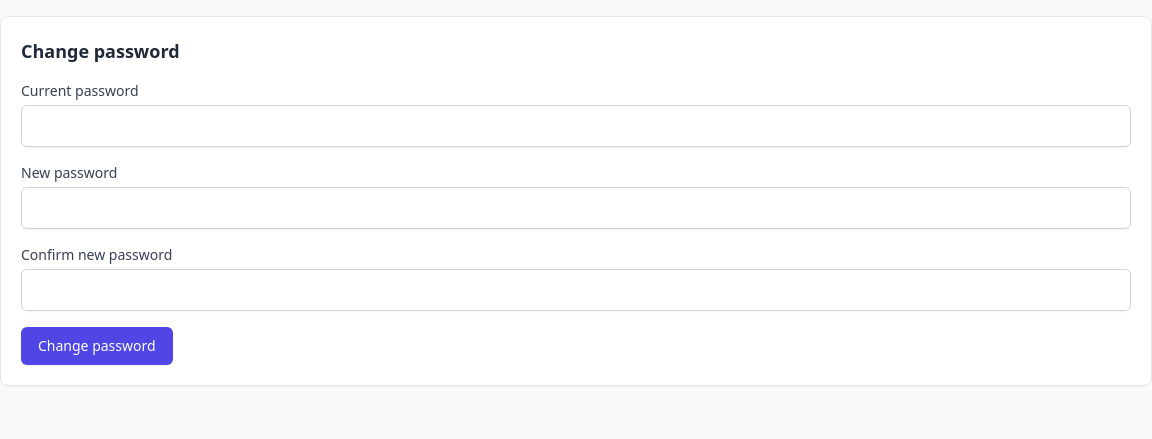
it: ChangePasswordForm › saves the new password, confirms it and clears the fields
In the password field labelled "Current password": (576, 126) [21,105,1131,147], type "secret1234"
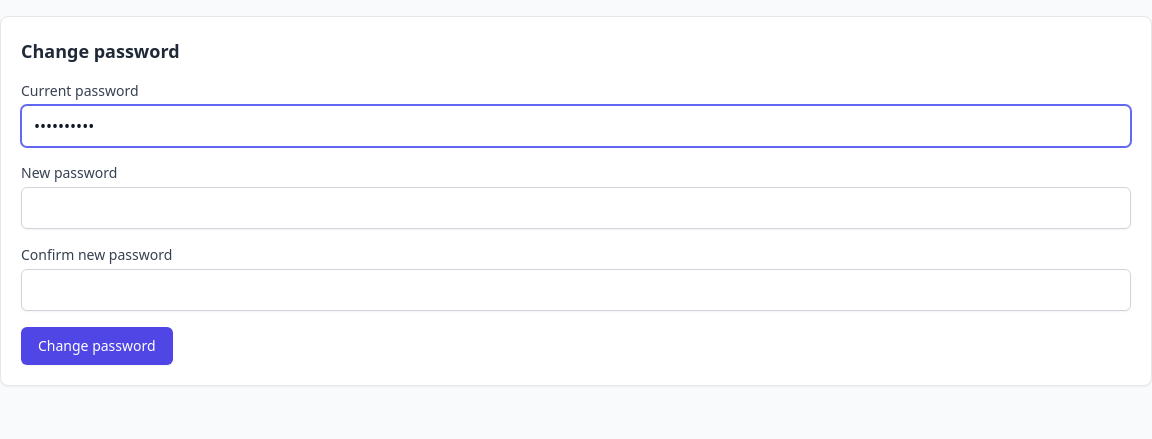
In the password field labelled "New password": (576, 208) [21,187,1131,229], type "newsecret5678"
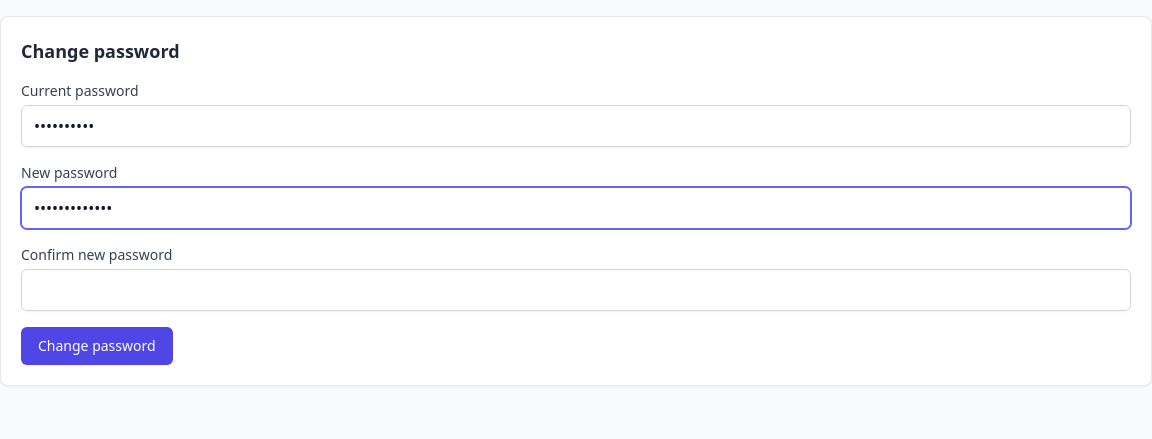
In the password field labelled "Confirm new password": (576, 290) [21,269,1131,311], type "newsecret5678"
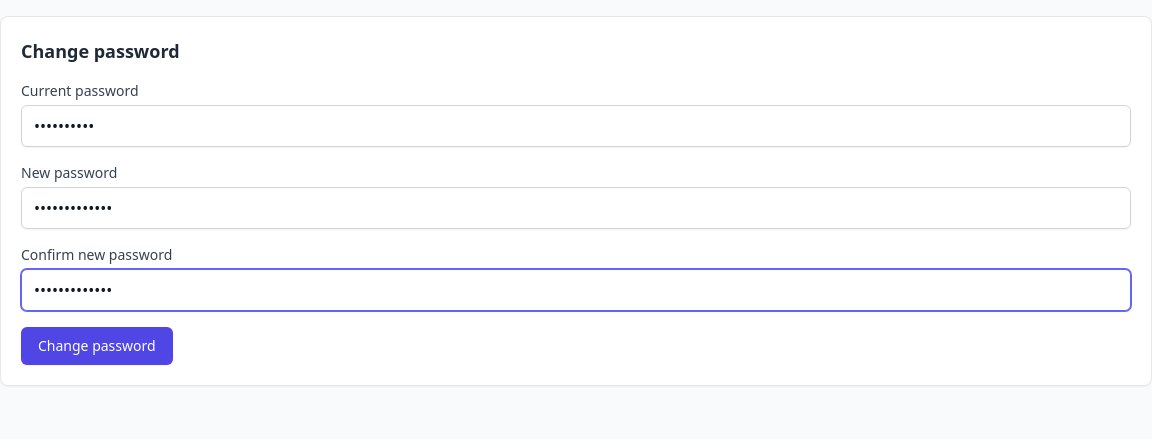
Click the button "Change password": (97, 346) [21,327,173,365]
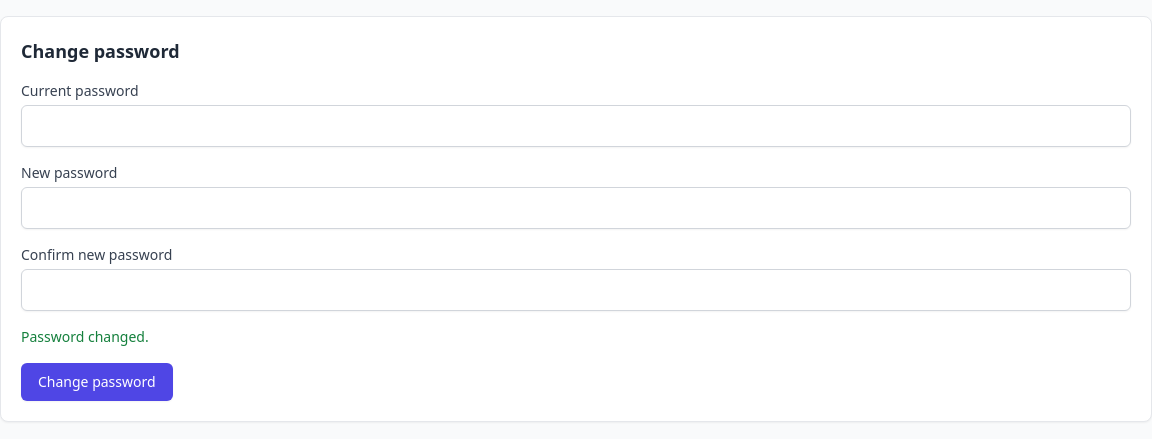
Expected: the text "Password changed." is shown, [21,327,149,346]
Expected: the password field labelled "Current password" is empty, [21,105,1131,147]
Expected: the password field labelled "New password" is empty, [21,187,1131,229]
